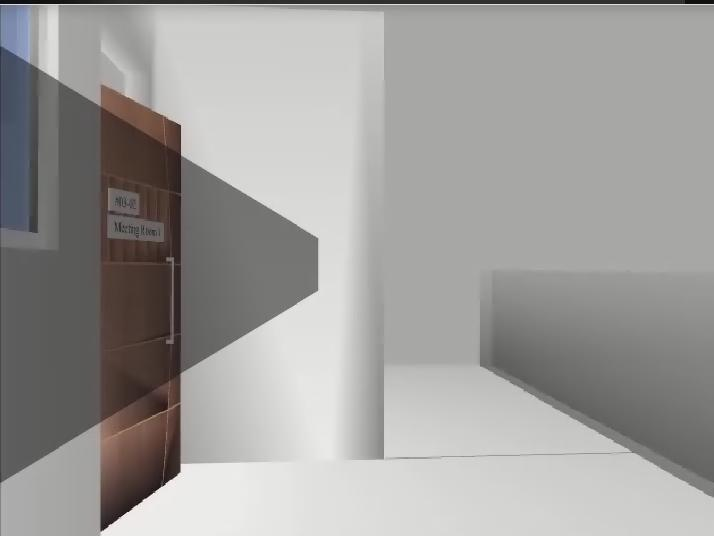door: (102, 83, 181, 532)
